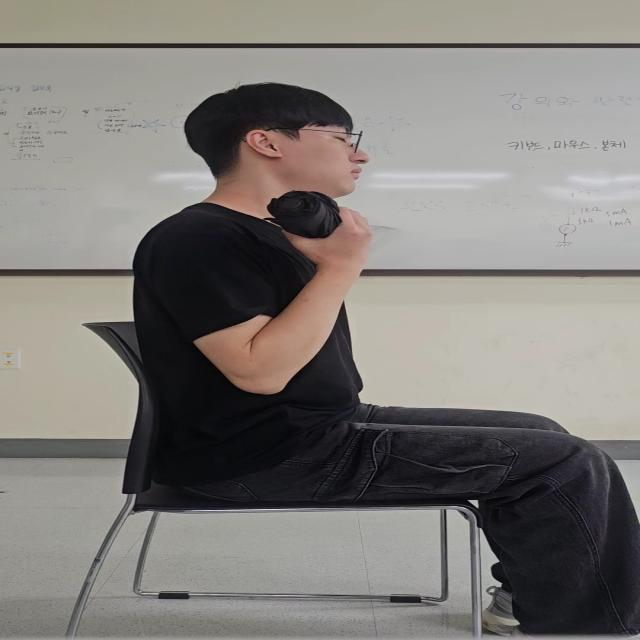curl: (152, 196, 386, 397)
